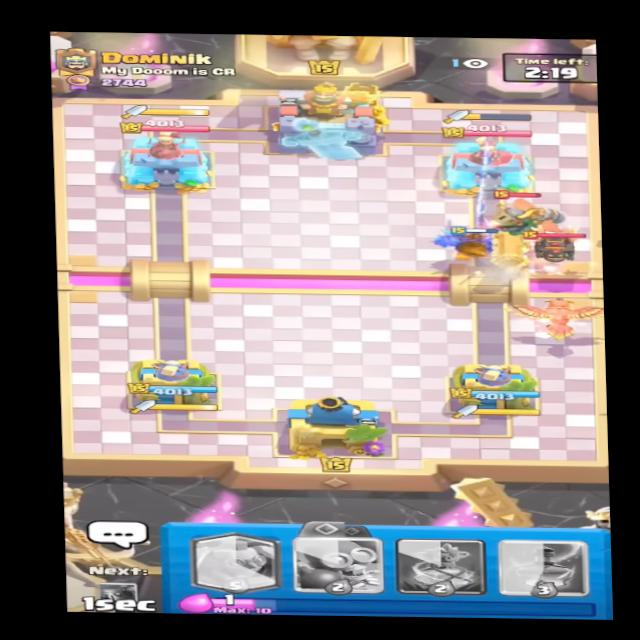inferno-dragon: (490, 189, 547, 238)
lava-hound: (518, 225, 594, 269)
